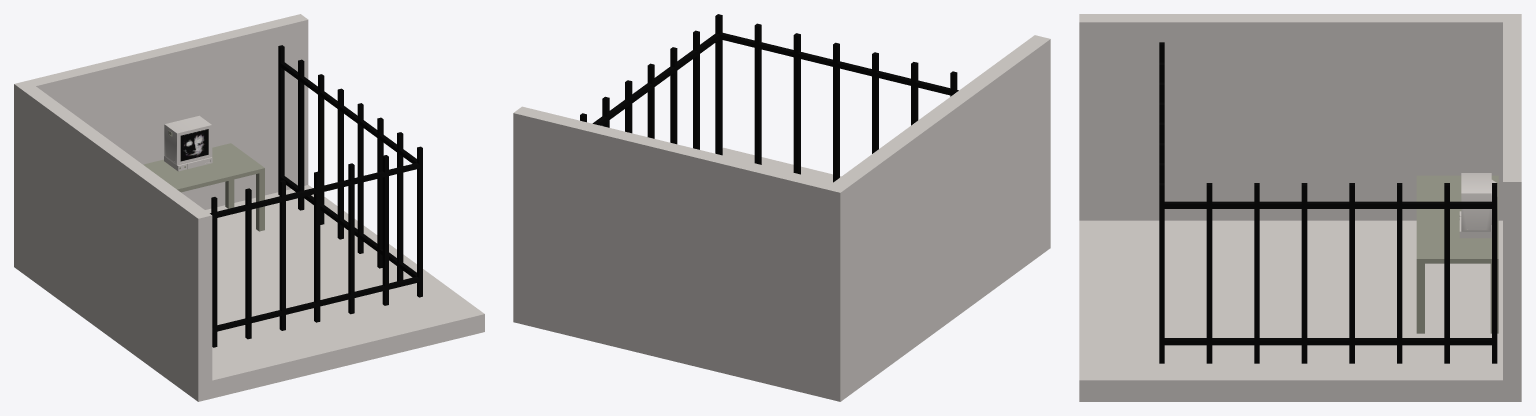
Rendered from SCP-079.FBX.
3 renders of one model, left to right at view 1: azimuth 30°, elevation 25°; view 2: azimuth 150°, elevation 25°; view 3: azimuth 270°, elevation 25°, orthographic. The views are drawn at different scales.
Visible parts, largest first — view 1: Wall, Fence, Table, SCP-079; view 2: Wall, Fence; view 3: Wall, Fence, Table, SCP-079.
Part boxes in pixels (bbox=[...]): Wall: bbox=[14, 14, 484, 401]; Fence: bbox=[210, 45, 422, 347]; Table: bbox=[143, 143, 264, 231]; SCP-079: bbox=[164, 115, 212, 171]; Wall: bbox=[513, 35, 1050, 401]; Fence: bbox=[580, 14, 958, 182]; Wall: bbox=[1079, 14, 1521, 401]; Fence: bbox=[1159, 42, 1497, 363]; Table: bbox=[1416, 175, 1498, 333]; SCP-079: bbox=[1459, 173, 1497, 238].
Bounding box in the file's own units: 261 × 160 × 291.
Materials: 3 (3 with a texture image).
